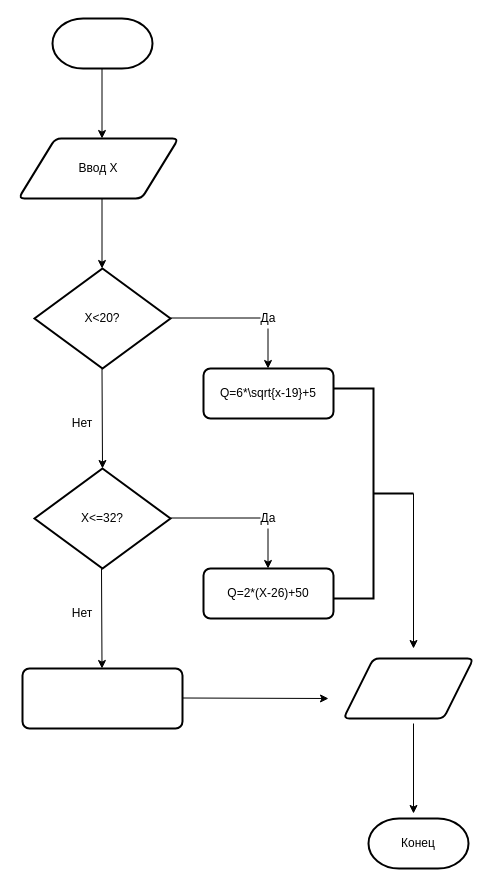
Image size: 491x886. Some labels were removed from this diagram. The shapes that lost their labels are listed below. From the top down, each one's centre as x and y in pixels, then its label:
At pixel 102 43: "Начало".
At pixel 102 698: "Q=0.25*(X-32)^2+55".
At pixel 408 688: "Вывод Q".
